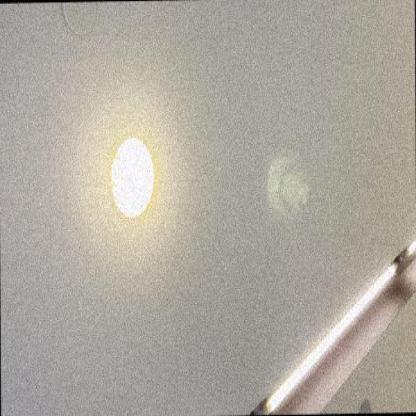light_on: (250, 260, 402, 416), (107, 115, 165, 229), (404, 233, 416, 264)
